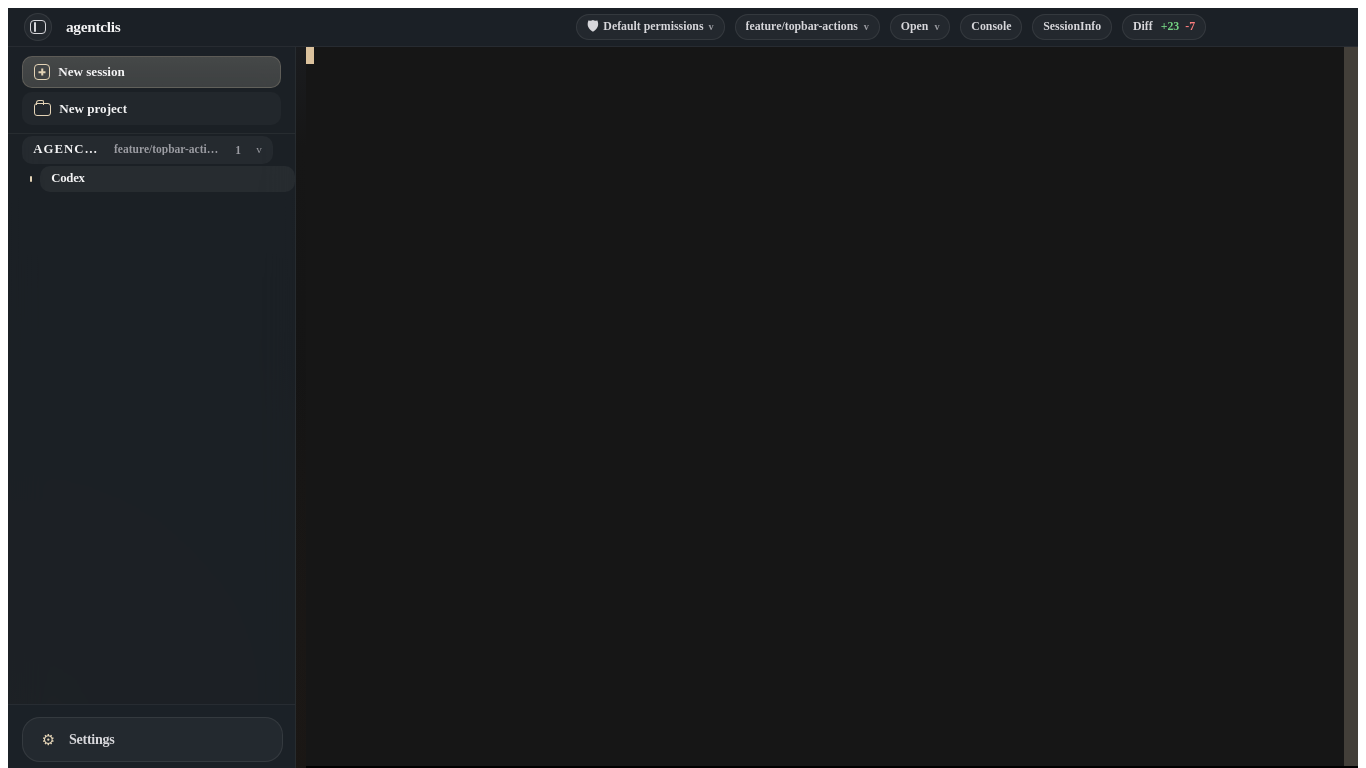
Scenario: App skills settings › switches branches from the top bar branch menu
What coordinates should you click on to do the following:
click the button with aria-label "Switch branch"
I would click on:
 (807, 27)
Its box is [735,14,880,40].
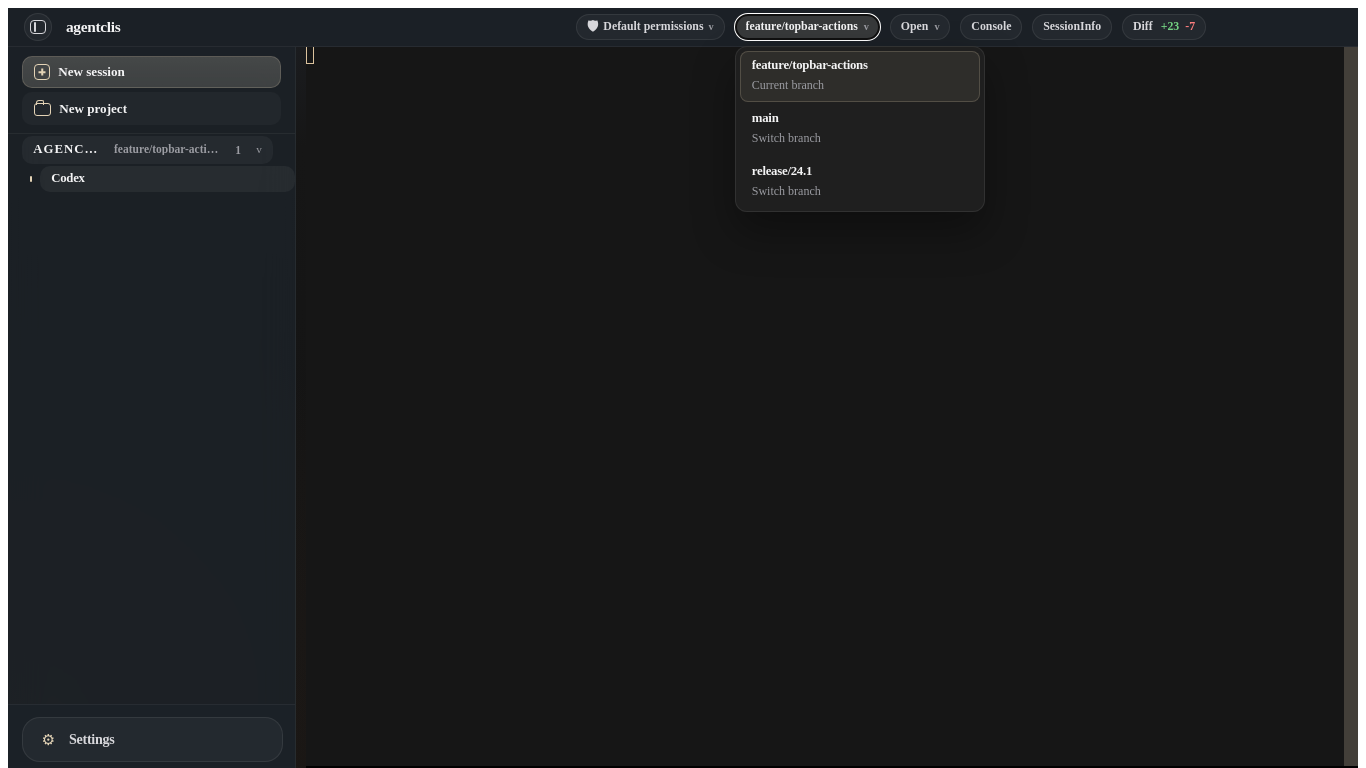
What coordinates should you click on to do the following:
click the menu item "main Switch branch"
I would click on:
 (860, 129)
Its box is [740,104,980,154].
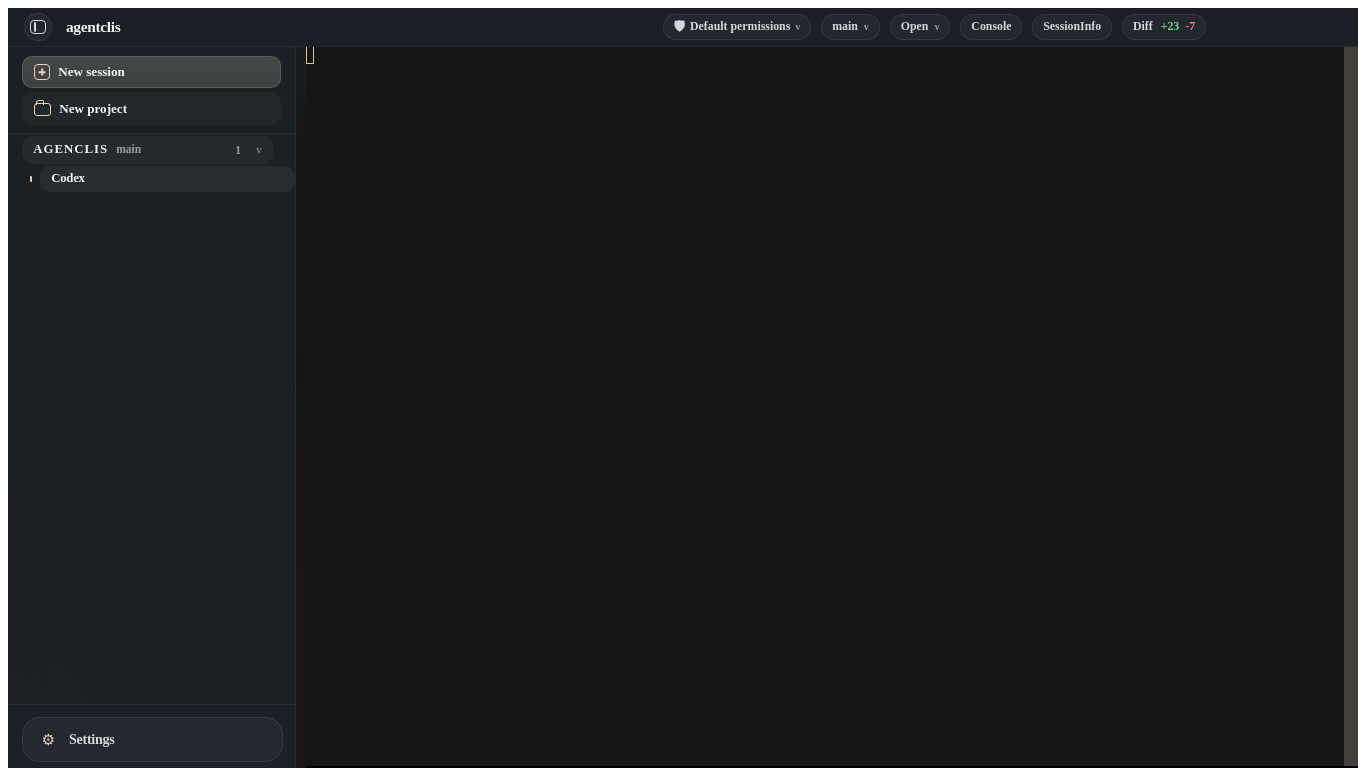
Expected: the button with aria-label "Switch branch" shows "main", [821,14,880,40]
